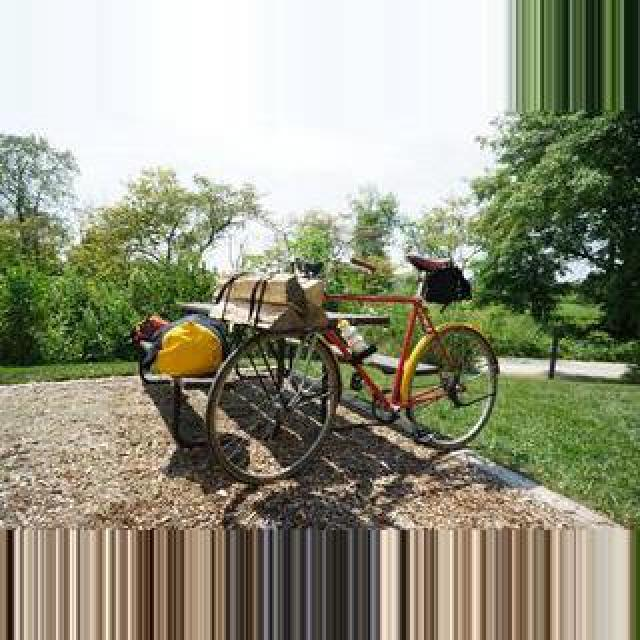Person: (203, 246, 505, 480)
